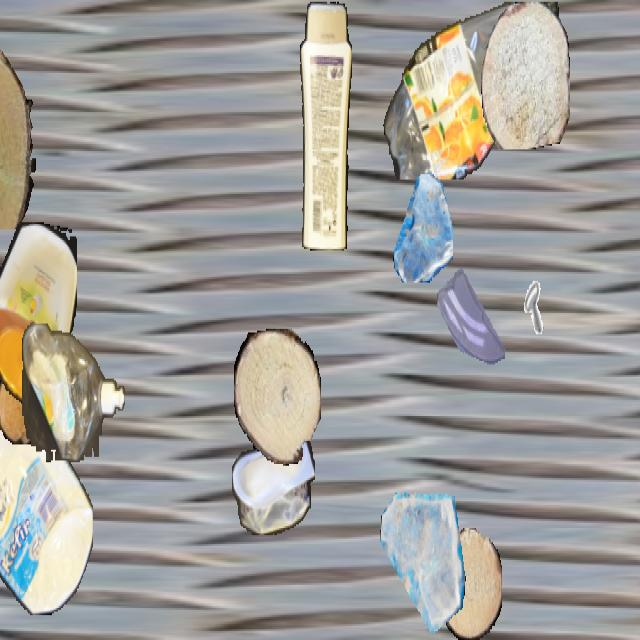glass: (379, 486, 465, 638), (437, 256, 505, 377), (392, 174, 452, 281)
metal: (499, 272, 545, 354)
plastic: (382, 2, 564, 180), (0, 356, 92, 615), (22, 324, 124, 462), (0, 222, 77, 404), (297, 2, 351, 250), (232, 427, 314, 533)
wood: (481, 2, 569, 148), (234, 329, 320, 464), (440, 528, 502, 638), (0, 39, 35, 228), (0, 362, 42, 444)
